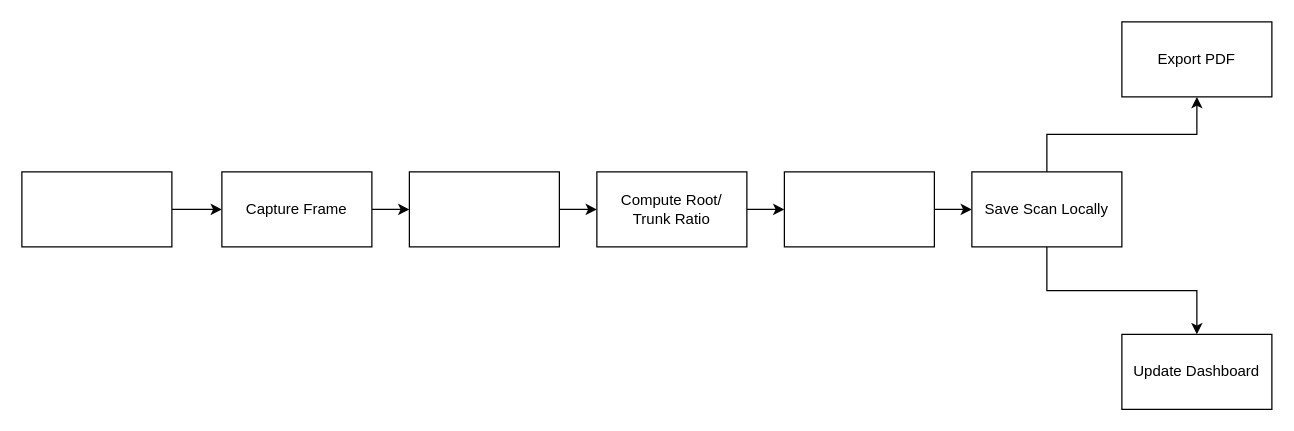
Some shapes in this 1294 by 431 pixel diagram are drawn without their labels. The centre of each missing label's shape, as x and y in pixels:
Assign Stability Class: point (858, 209)
Open Scanner: point (96, 209)
Run TFLite Inference: point (483, 209)
